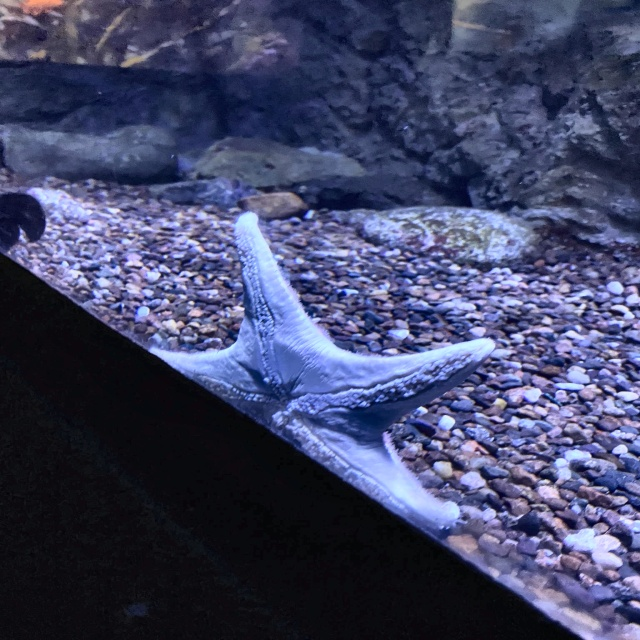starfish: (147, 213, 496, 534)
